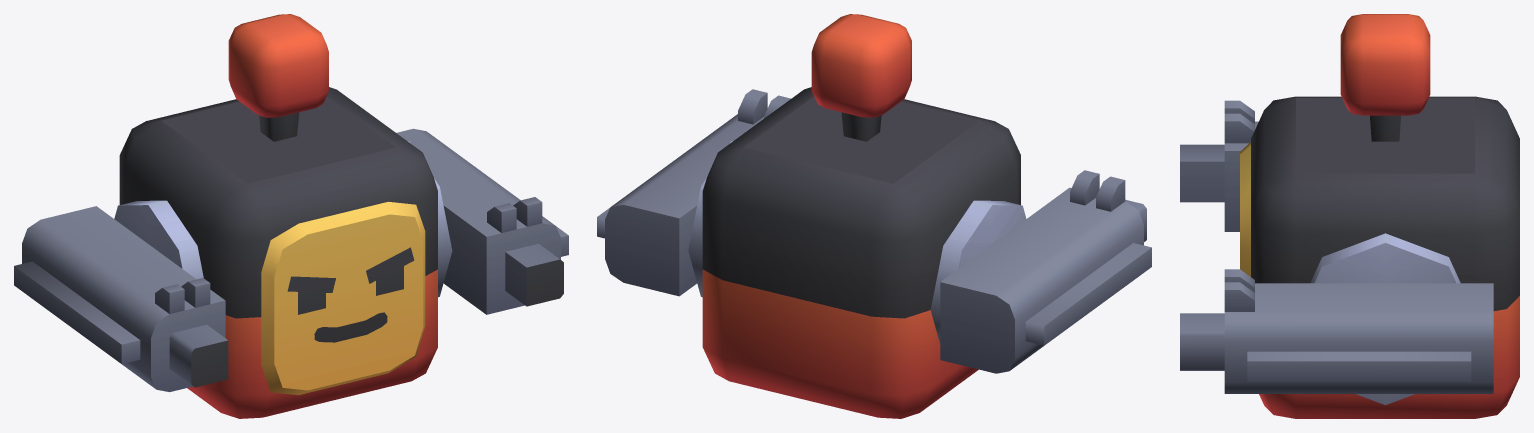
The model's file is drone.glb.
The picture shows the model from 3 angles, left to right: view 1: azimuth 30°, elevation 25°; view 2: azimuth 150°, elevation 25°; view 3: azimuth 270°, elevation 25°; orthographic projection. The views are drawn at different scales.
Visible parts, largest first — view 1: torso, blaster-right, blaster-left, antenna; view 2: torso, blaster-right, blaster-left, antenna; view 3: torso, blaster-left, antenna, blaster-right.
Part boxes in pixels (x1,y1,x2,y2): torso: (119, 87, 437, 418); blaster-right: (14, 200, 228, 392); blaster-left: (396, 128, 568, 314); antenna: (228, 14, 328, 141); torso: (702, 87, 1020, 418); blaster-right: (930, 170, 1151, 373); blaster-left: (597, 89, 790, 297); antenna: (811, 14, 911, 141); torso: (1240, 96, 1519, 418); blaster-left: (1180, 233, 1493, 405); antenna: (1340, 14, 1430, 141); blaster-right: (1180, 100, 1258, 231).
Size of the model in its own units: 1.2 by 0.875 by 0.7586.
Materials: 1 (1 with a texture image).
